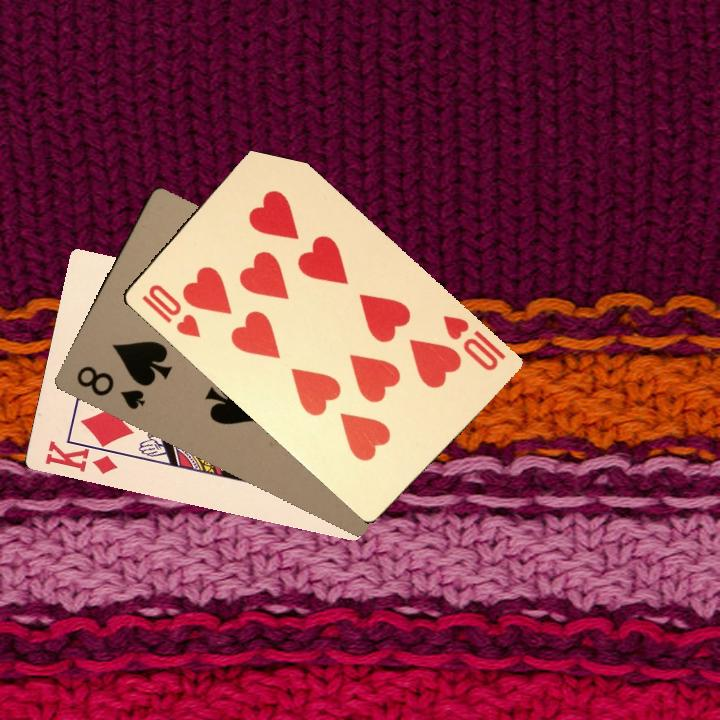10h: (439, 311, 508, 374), (137, 280, 204, 340)
8s: (72, 361, 148, 413)
Kd: (40, 432, 121, 477)
